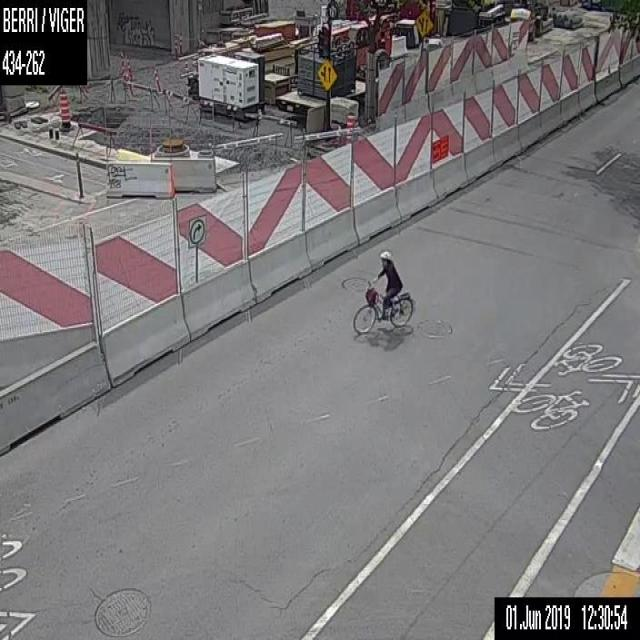construction: (59, 91, 72, 131), (346, 112, 356, 144)
cyclist: (352, 250, 413, 334)
